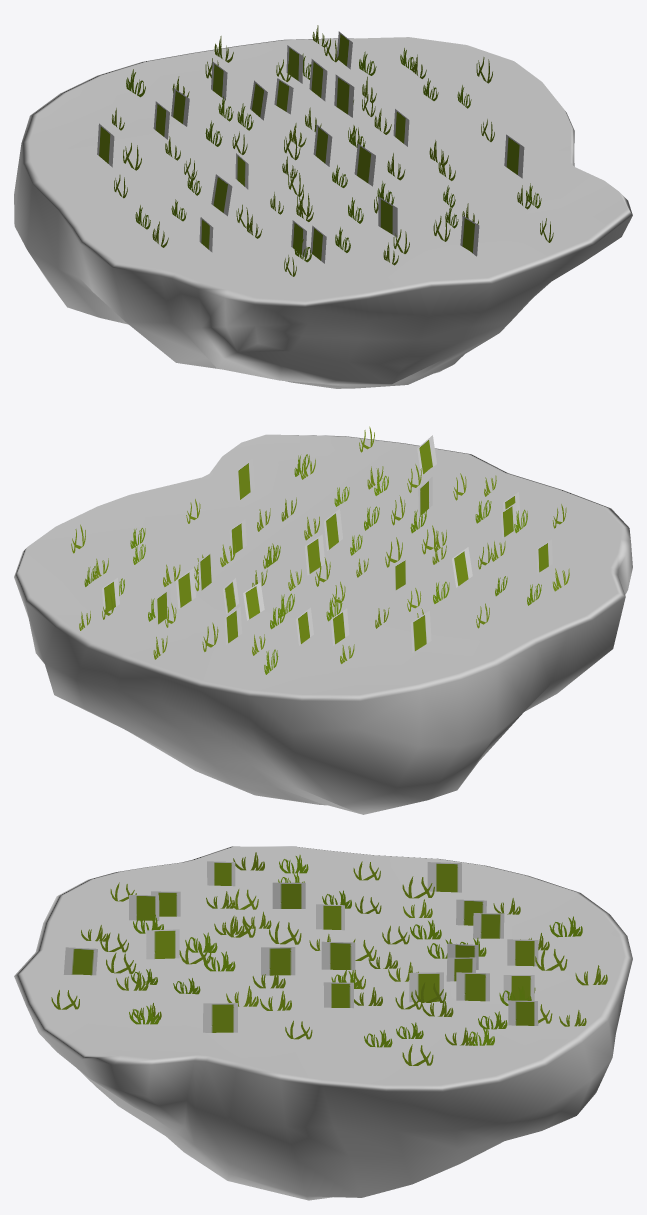
File: Arena_Earth_v2.fbx
3 views of the same model, one above another, from view 1: azimuth 30°, elevation 25°; view 2: azimuth 150°, elevation 25°; view 3: azimuth 270°, elevation 25° (orthographic). The views are drawn at different scales.
Visible parts, largest first — view 1: pPlane1, pPlane90; view 2: pPlane1, pPlane90; view 3: pPlane1, pPlane90.
Part boxes in pixels (left/top/right/bottom): pPlane1: left=14, top=37, right=632, bottom=388; pPlane90: left=97, top=25, right=553, bottom=276; pPlane1: left=14, top=434, right=632, bottom=814; pPlane90: left=71, top=426, right=569, bottom=674; pPlane1: left=14, top=846, right=632, bottom=1200; pPlane90: left=51, top=852, right=607, bottom=1065.
Bounding box in the file's own units: 3664 × 1680 × 3905.
